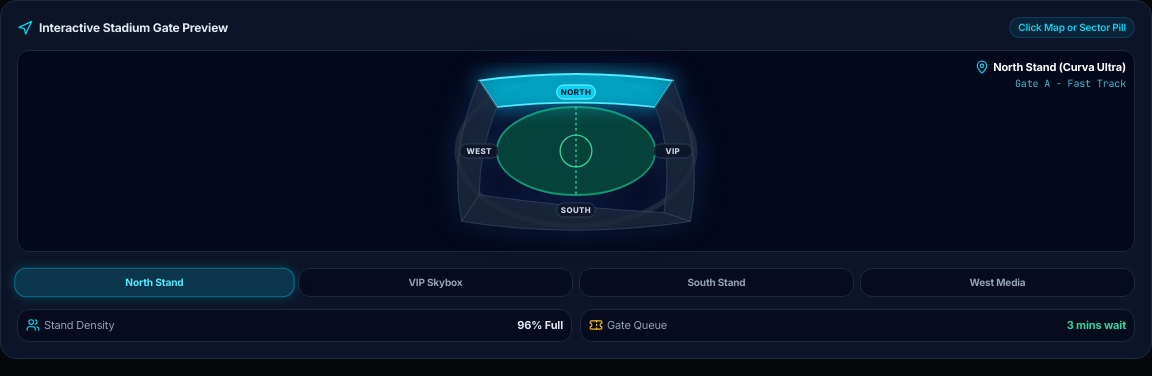
it: StadiumGateMapPreview Component › updates sector details when clicking sector quick selector pills
# Click VIP Skybox sector pill
Click the button "VIP Skybox": (436, 282) [298,268,573,297]
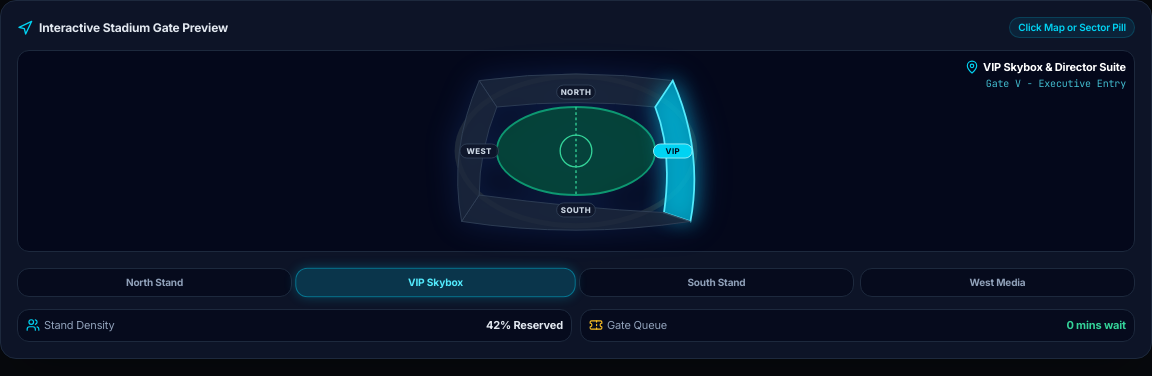
Now the text "VIP Skybox & Director Suite" is shown, box [965,59,1126,76]
Now the text "Gate V - Executive Entry" is shown, box [965,76,1126,90]
Now the text "42% Reserved" is shown, box [486,318,563,333]
# Click South Stand sector pill
Click the button "South Stand": (716, 282) [579,268,854,297]
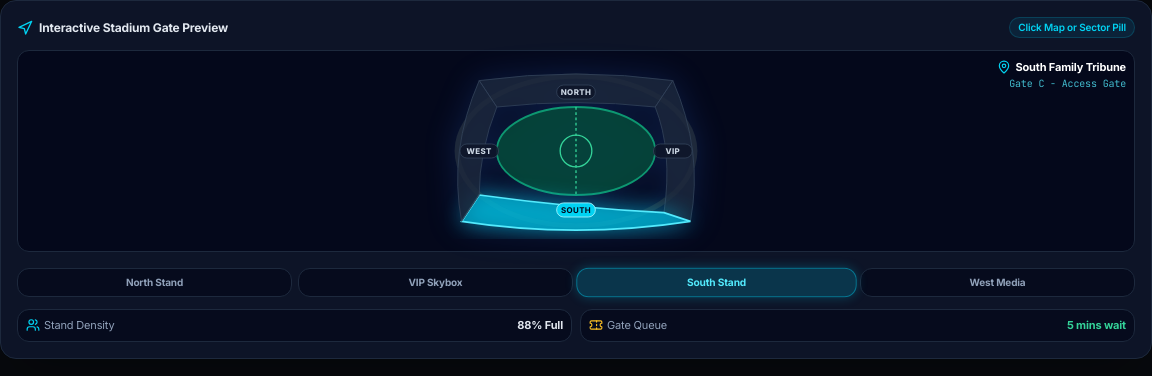
Now the text "South Family Tribune" is shown, box [998,59,1126,76]
Now the text "Gate C - Access Gate" is shown, box [998,76,1126,90]
Now the text "88% Full" is shown, box [517,318,563,333]
